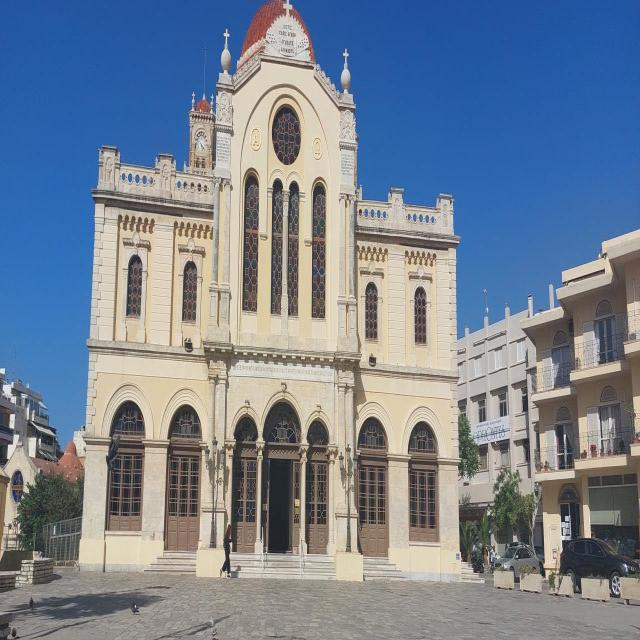Agios Minas: (76, 1, 464, 591)
